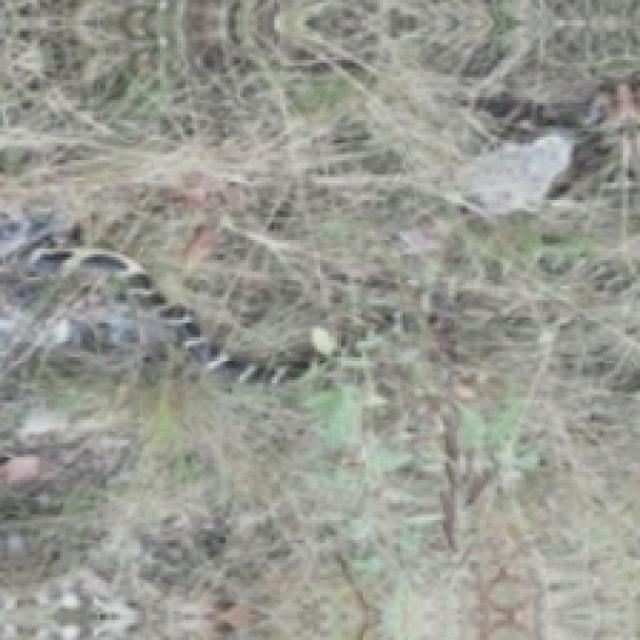king cobra: (0, 209, 306, 386)
